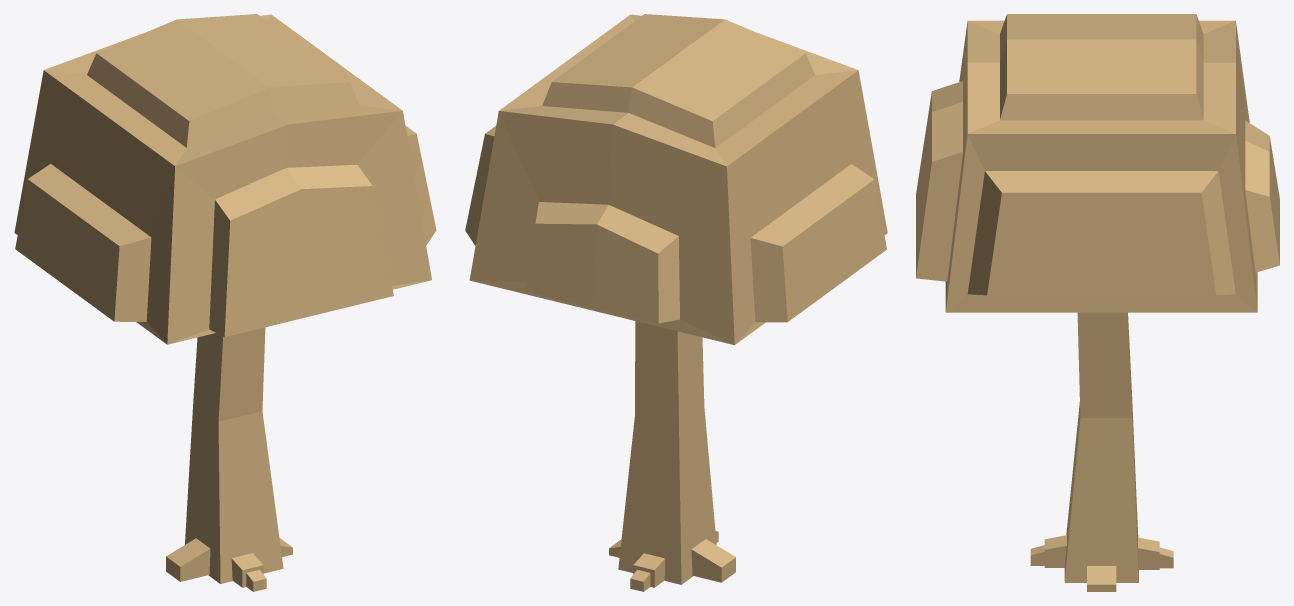
File: Mega_Asset_s_Pack_Cube_057.FBX
3 renders of one model, left to right at view 1: azimuth 30°, elevation 25°; view 2: azimuth 150°, elevation 25°; view 3: azimuth 270°, elevation 25°, orthographic. The views are drawn at different scales.
Parts seen in each view (by area): view 1: Mega_Asset_s_Pack_Cube_057; view 2: Mega_Asset_s_Pack_Cube_057; view 3: Mega_Asset_s_Pack_Cube_057.
Part boxes in pixels (x1,y1,x2,y2): Mega_Asset_s_Pack_Cube_057: [14, 14, 436, 591]; Mega_Asset_s_Pack_Cube_057: [465, 14, 887, 591]; Mega_Asset_s_Pack_Cube_057: [916, 14, 1279, 591].
Size of what is drawn, in the model's own units: 491 by 481 by 761.
